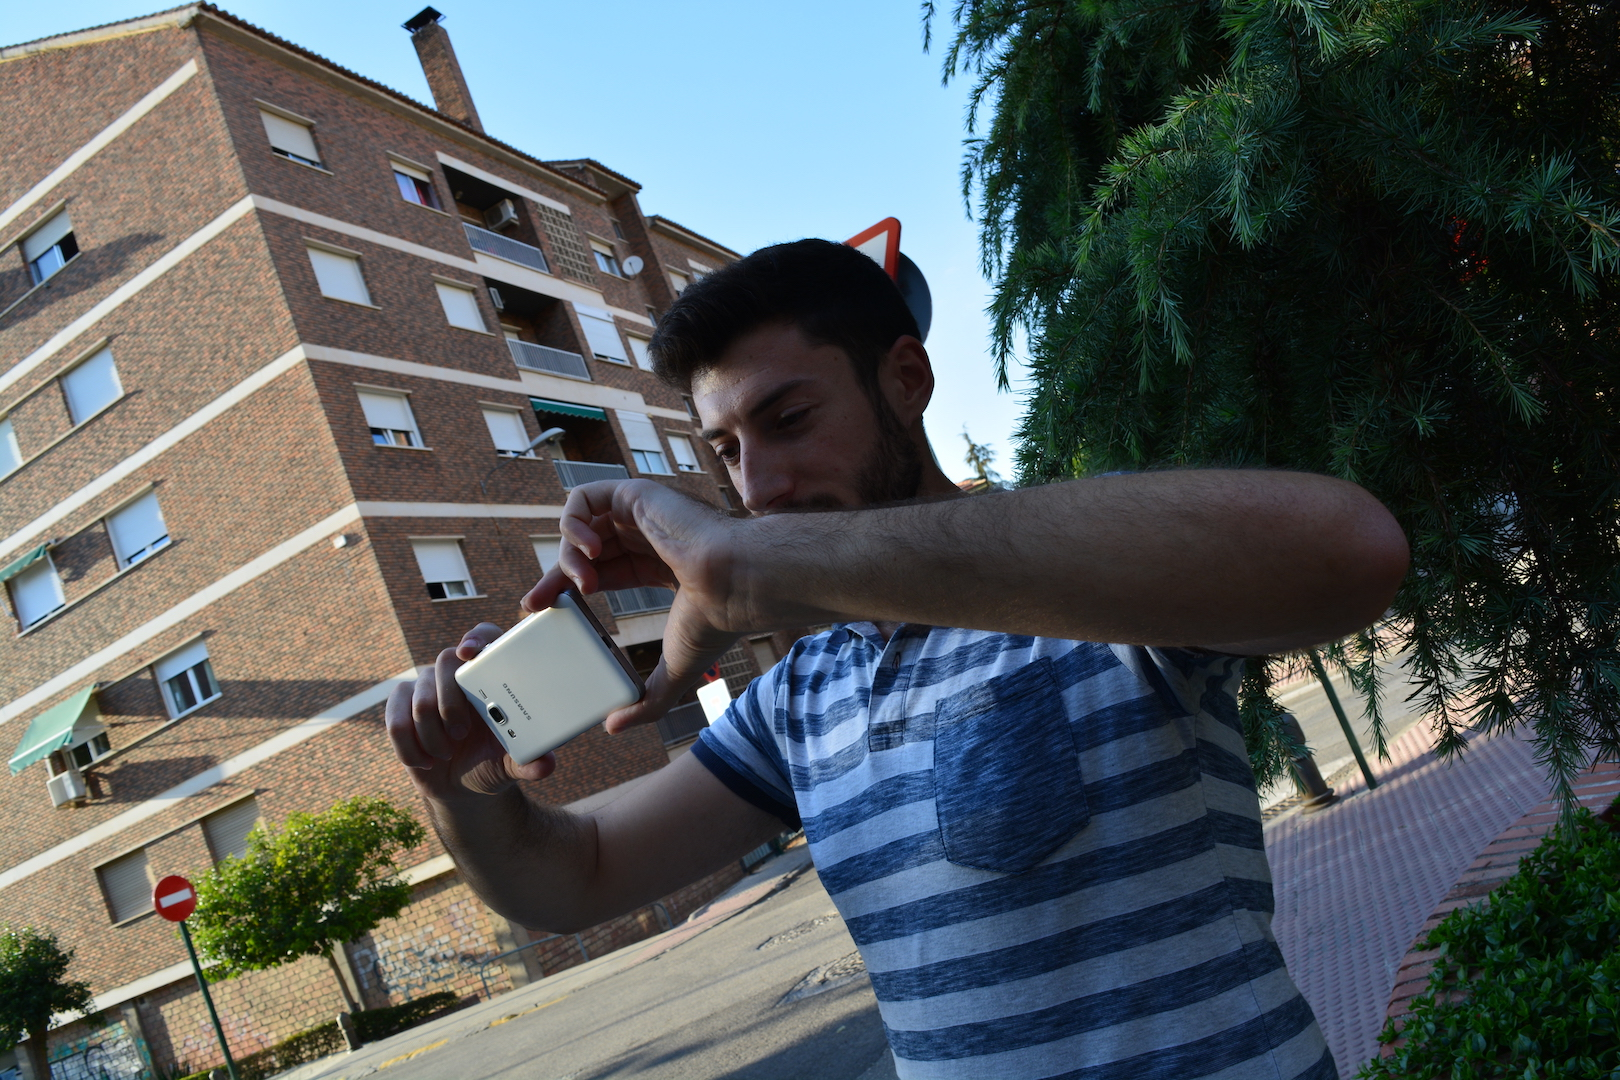smartphone: (450, 583, 646, 770)
